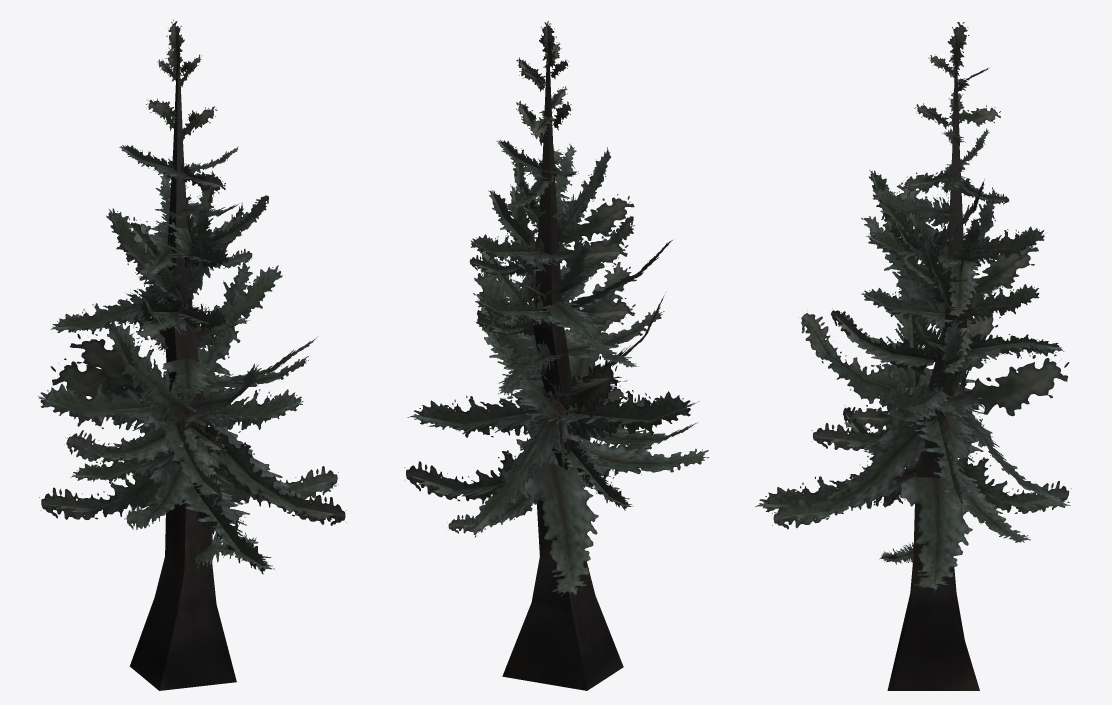
Rendered from Tree.fbx.
The picture shows the model from 3 angles, left to right: view 1: azimuth 30°, elevation 25°; view 2: azimuth 150°, elevation 25°; view 3: azimuth 270°, elevation 25°; orthographic projection. The views are drawn at different scales.
Visible parts, largest first — view 1: CompleteBranches1, CompleteTrunk1; view 2: CompleteBranches1, CompleteTrunk1; view 3: CompleteBranches1, CompleteTrunk1.
Boxes of the visible parts, box(x1,y1,x2,y2) form: CompleteBranches1: box(38, 19, 346, 574); CompleteTrunk1: box(129, 28, 236, 690); CompleteBranches1: box(404, 21, 708, 600); CompleteTrunk1: box(502, 23, 623, 690); CompleteBranches1: box(755, 22, 1071, 597); CompleteTrunk1: box(887, 28, 979, 690).
Bounding box in the file's own units: 513 × 1033 × 490.
Materials: 2 (2 with a texture image).
